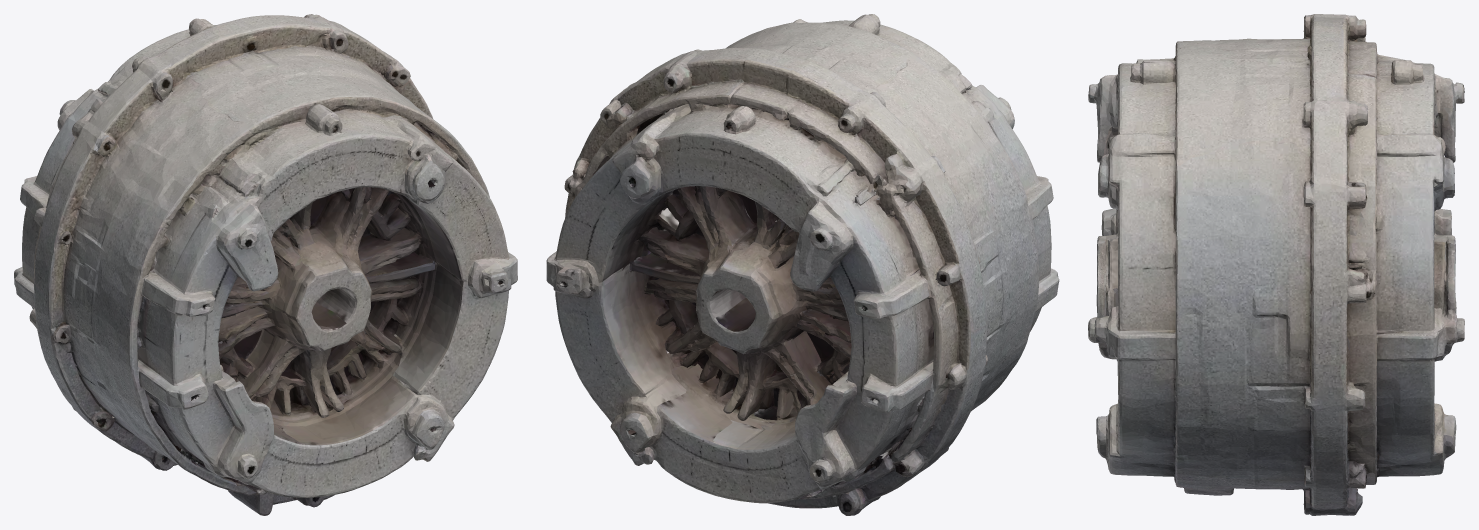
File: head (36).glb
The picture shows the model from 3 angles, left to right: view 1: azimuth 30°, elevation 25°; view 2: azimuth 150°, elevation 25°; view 3: azimuth 270°, elevation 25°; orthographic projection. The views are drawn at different scales.
Visible parts, largest first — view 1: Hy21_Mesh.obj; view 2: Hy21_Mesh.obj; view 3: Hy21_Mesh.obj.
Part boxes in pixels (<box>): Hy21_Mesh.obj: <box>14,14,517,515</box>; Hy21_Mesh.obj: <box>546,14,1059,515</box>; Hy21_Mesh.obj: <box>1088,14,1464,515</box>.
Bounding box in the file's own units: 1.91 × 1.96 × 1.5.
1 material, 1 textured.
